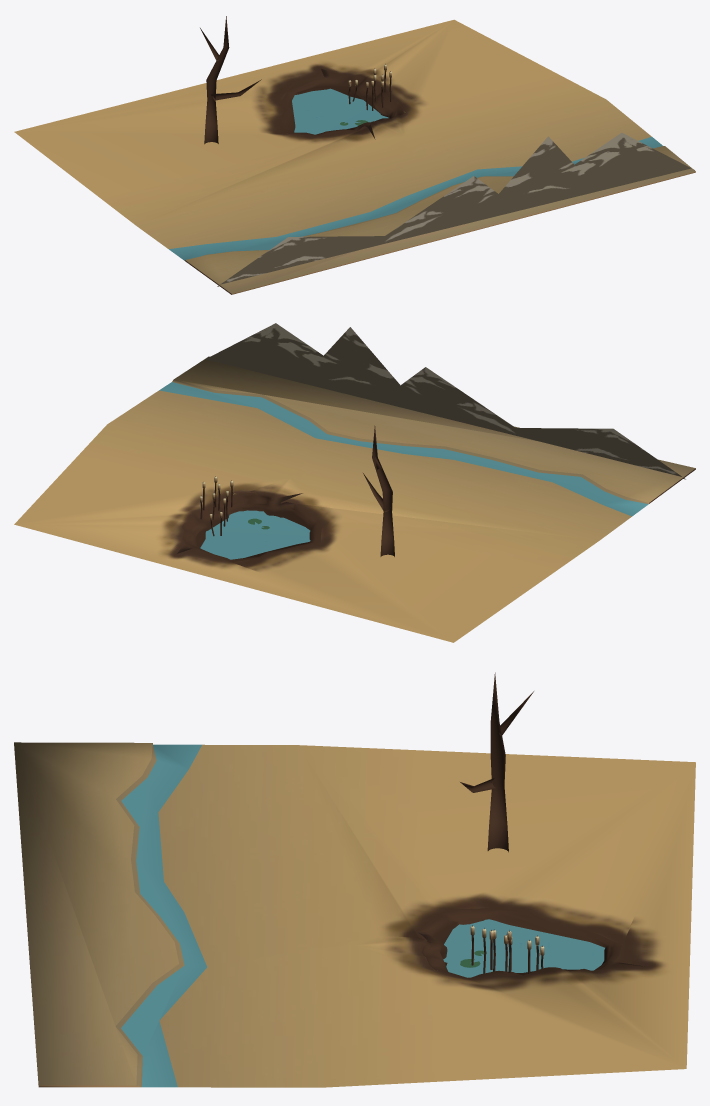
File: enviro.gltf
The picture shows the model from 3 angles, top to bottom: view 1: azimuth 30°, elevation 25°; view 2: azimuth 150°, elevation 25°; view 3: azimuth 270°, elevation 25°; orthographic projection. The views are drawn at different scales.
Parts seen in each view (by area): view 1: environment; view 2: environment; view 3: environment.
Boxes of the visible parts, x1=… form: environment: x1=14, y1=16, x2=695, y2=294; environment: x1=14, y1=323, x2=695, y2=642; environment: x1=14, y1=672, x2=695, y2=1087.
Bounding box in the file's own units: 20.82 × 6.28 × 17.12.
1 material, 1 textured.
